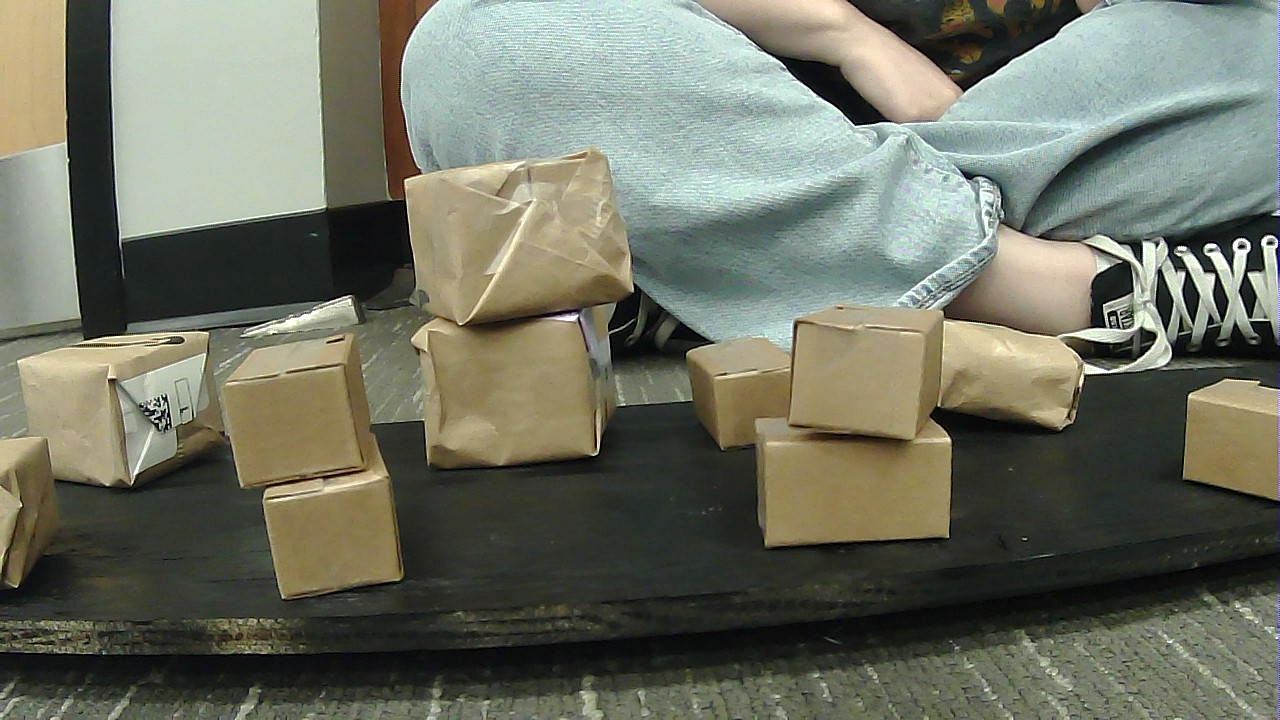package: (401, 159, 646, 322), (743, 410, 972, 555), (415, 320, 614, 464), (16, 337, 209, 482), (260, 478, 414, 621), (228, 339, 386, 476), (786, 301, 938, 439), (925, 297, 1078, 422), (1173, 370, 1279, 505), (689, 335, 797, 451), (2, 437, 74, 590)
stacked: (397, 145, 608, 451), (744, 288, 974, 550), (210, 345, 409, 588)
